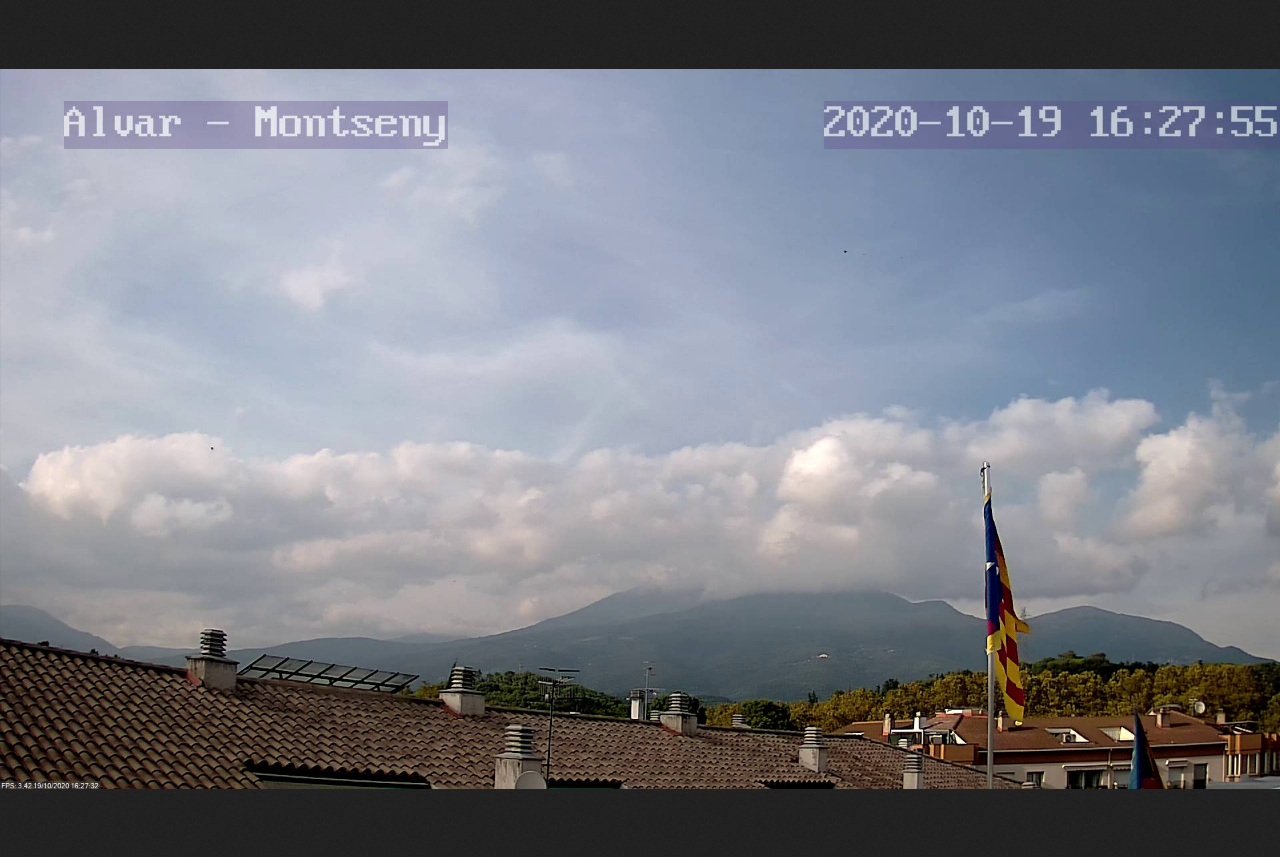no: (957, 447, 1042, 723)
